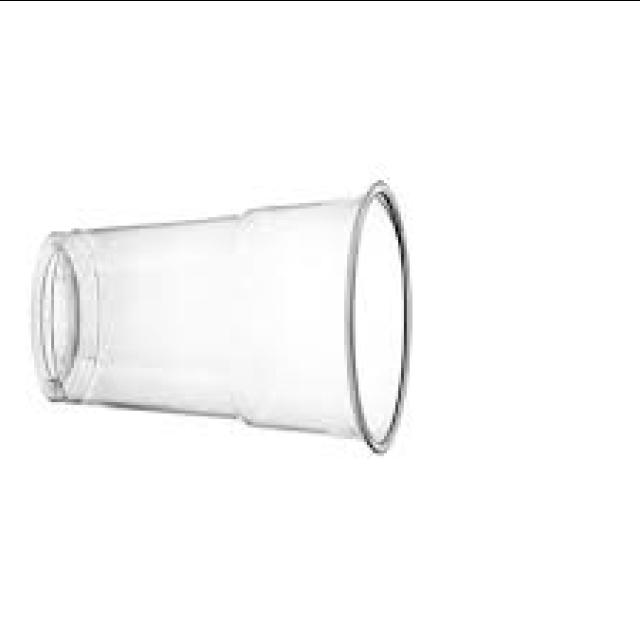plastic: (35, 181, 411, 452)
